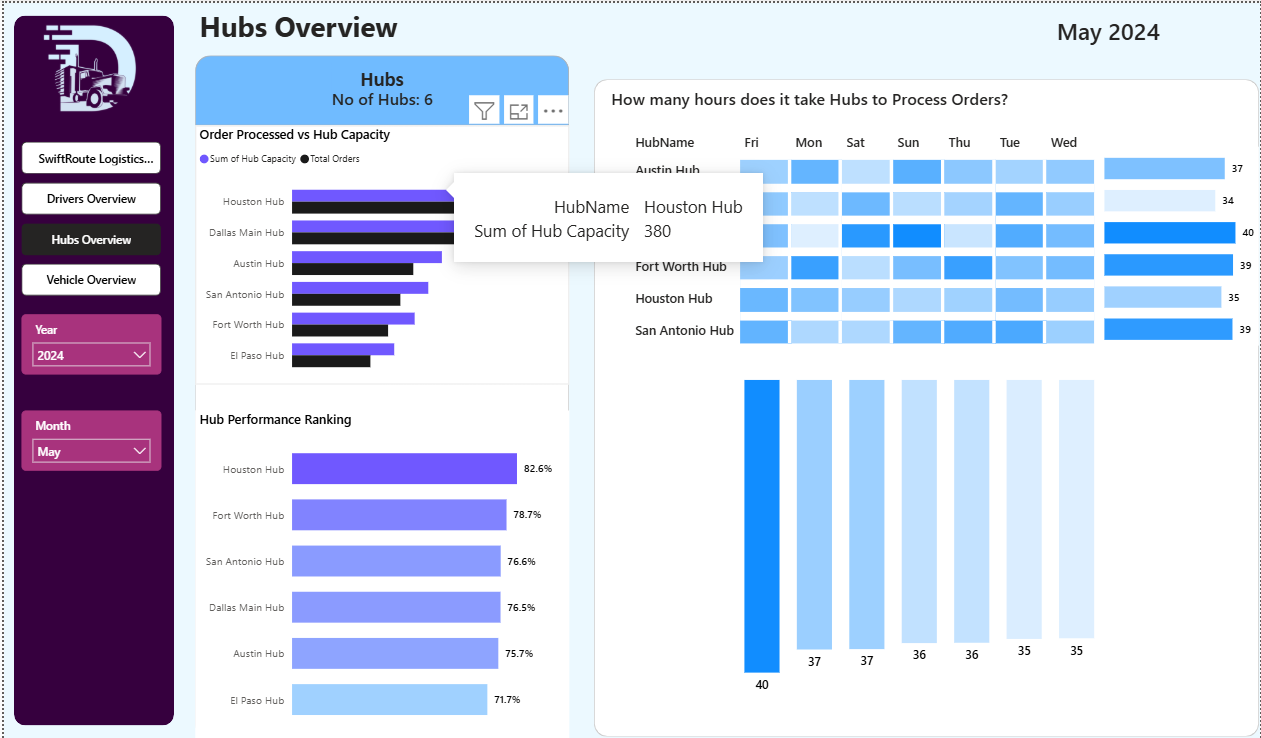

The page's visual inventory and layout, read from the dashboard file:
{"tool":"powerbi","page":{"name":"Hubs Overview","canvas":[1450,850],"ordinal":2},"visuals":[{"type":"shape","box":[11.5,14.4,184.8,820],"z":0},{"type":"textbox","box":[220.7,0,503.6,60.6],"z":1000},{"type":"slicer","fields":{"Values":["Date Table.Year"]},"box":[20.2,360.1,161.7,70],"z":2000},{"type":"slicer","fields":{"Values":["Date Table.Month"]},"box":[20.2,470.4,161.7,70],"z":3000},{"type":"image","box":[23.3,14,153.9,130.6],"z":4000},{"type":"cardVisual","fields":{"Data":["Orders.Year Month Title"]},"box":[1142.5,0,267.4,60.6],"z":5000},{"type":"shape","box":[681.4,88.1,768,759.3],"z":6000},{"type":"shape","box":[220.9,60.6,431.6,789.7],"z":7000},{"type":"shape","box":[220.9,60.6,431.6,80.8],"z":8000},{"type":"textbox","box":[378.2,67.9,116.9,40.4],"z":9000},{"type":"clusteredBarChart","title":"Order Processed vs Hub Capacity","fields":{"Category":["Hubs.HubName"],"Y":["Sum(Hubs.Hub Capacity)","Orders.Total Orders"]},"box":[220.9,141.5,431.6,298.8],"z":10000},{"type":"barChart","title":"Hub Performance Ranking","fields":{"Category":["Hubs.HubName"],"Y":["Orders.On Time Delivery Rate"]},"box":[220.9,470.6,431.6,379.7],"z":11000},{"type":"cardVisual","fields":{"Data":["Hubs.No of Hubs"]},"box":[342.1,67.9,190.6,82.3],"z":12000},{"type":"pivotTable","fields":{"Rows":["Hubs.HubName"],"Columns":["Date Table.Day"],"Values":["Orders.Avg Delivery Time (Hrs)"]},"box":[718.9,144.4,557.2,277.2],"z":13000},{"type":"columnChart","fields":{"Category":["Date Table.Day"],"Y":["Orders.Avg Delivery Time (Hrs)"]},"box":[850.3,421.5,415.8,384],"z":14000},{"type":"barChart","fields":{"Category":["Hubs.HubName"],"Y":["Orders.Avg Delivery Time (Hrs)"]},"box":[1266.1,166,183.3,229.5],"z":15000},{"type":"cardVisual","fields":{"Data":["Hubs.Hub Title"]},"box":[681.4,67.9,498,82.3],"z":16000},{"type":"pageNavigator","box":[20.2,160.2,161.7,181.9],"z":17000}]}

Visuals, with their boxes on the page's 1450x850 design canvas (x1, y1, x2, y2). These are canvas units, not pixel positions in the 1261x738 screenshot, which may show the page scaled, cropped or inside an application window:
shape: select_region(12, 14, 196, 834)
textbox: select_region(221, 0, 724, 61)
slicer - Date Table.Year: select_region(20, 360, 182, 430)
slicer - Date Table.Month: select_region(20, 470, 182, 540)
image: select_region(23, 14, 177, 145)
cardVisual - Orders.Year Month Title: select_region(1142, 0, 1410, 61)
shape: select_region(681, 88, 1449, 847)
shape: select_region(221, 61, 652, 850)
shape: select_region(221, 61, 652, 141)
textbox: select_region(378, 68, 495, 108)
"Order Processed vs Hub Capacity" clusteredBarChart: select_region(221, 142, 652, 440)
"Hub Performance Ranking" barChart: select_region(221, 471, 652, 850)
cardVisual - Hubs.No of Hubs: select_region(342, 68, 533, 150)
pivotTable - Hubs.HubName x Date Table.Day: select_region(719, 144, 1276, 422)
columnChart - Date Table.Day x Orders.Avg Delivery Time (Hrs): select_region(850, 422, 1266, 806)
barChart - Hubs.HubName x Orders.Avg Delivery Time (Hrs): select_region(1266, 166, 1449, 396)
cardVisual - Hubs.Hub Title: select_region(681, 68, 1179, 150)
pageNavigator: select_region(20, 160, 182, 342)
